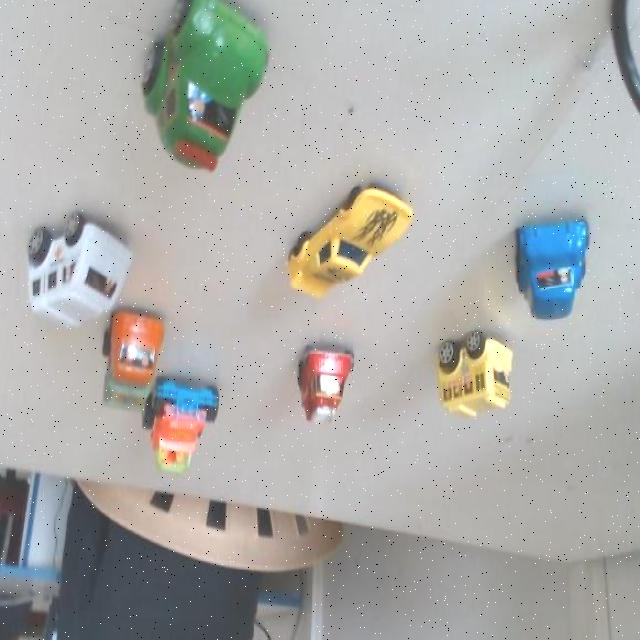car: (104, 0, 293, 182), (20, 188, 150, 350), (277, 172, 420, 304), (426, 317, 516, 421), (147, 376, 231, 484), (512, 212, 595, 320), (99, 300, 168, 422), (284, 324, 358, 432)
